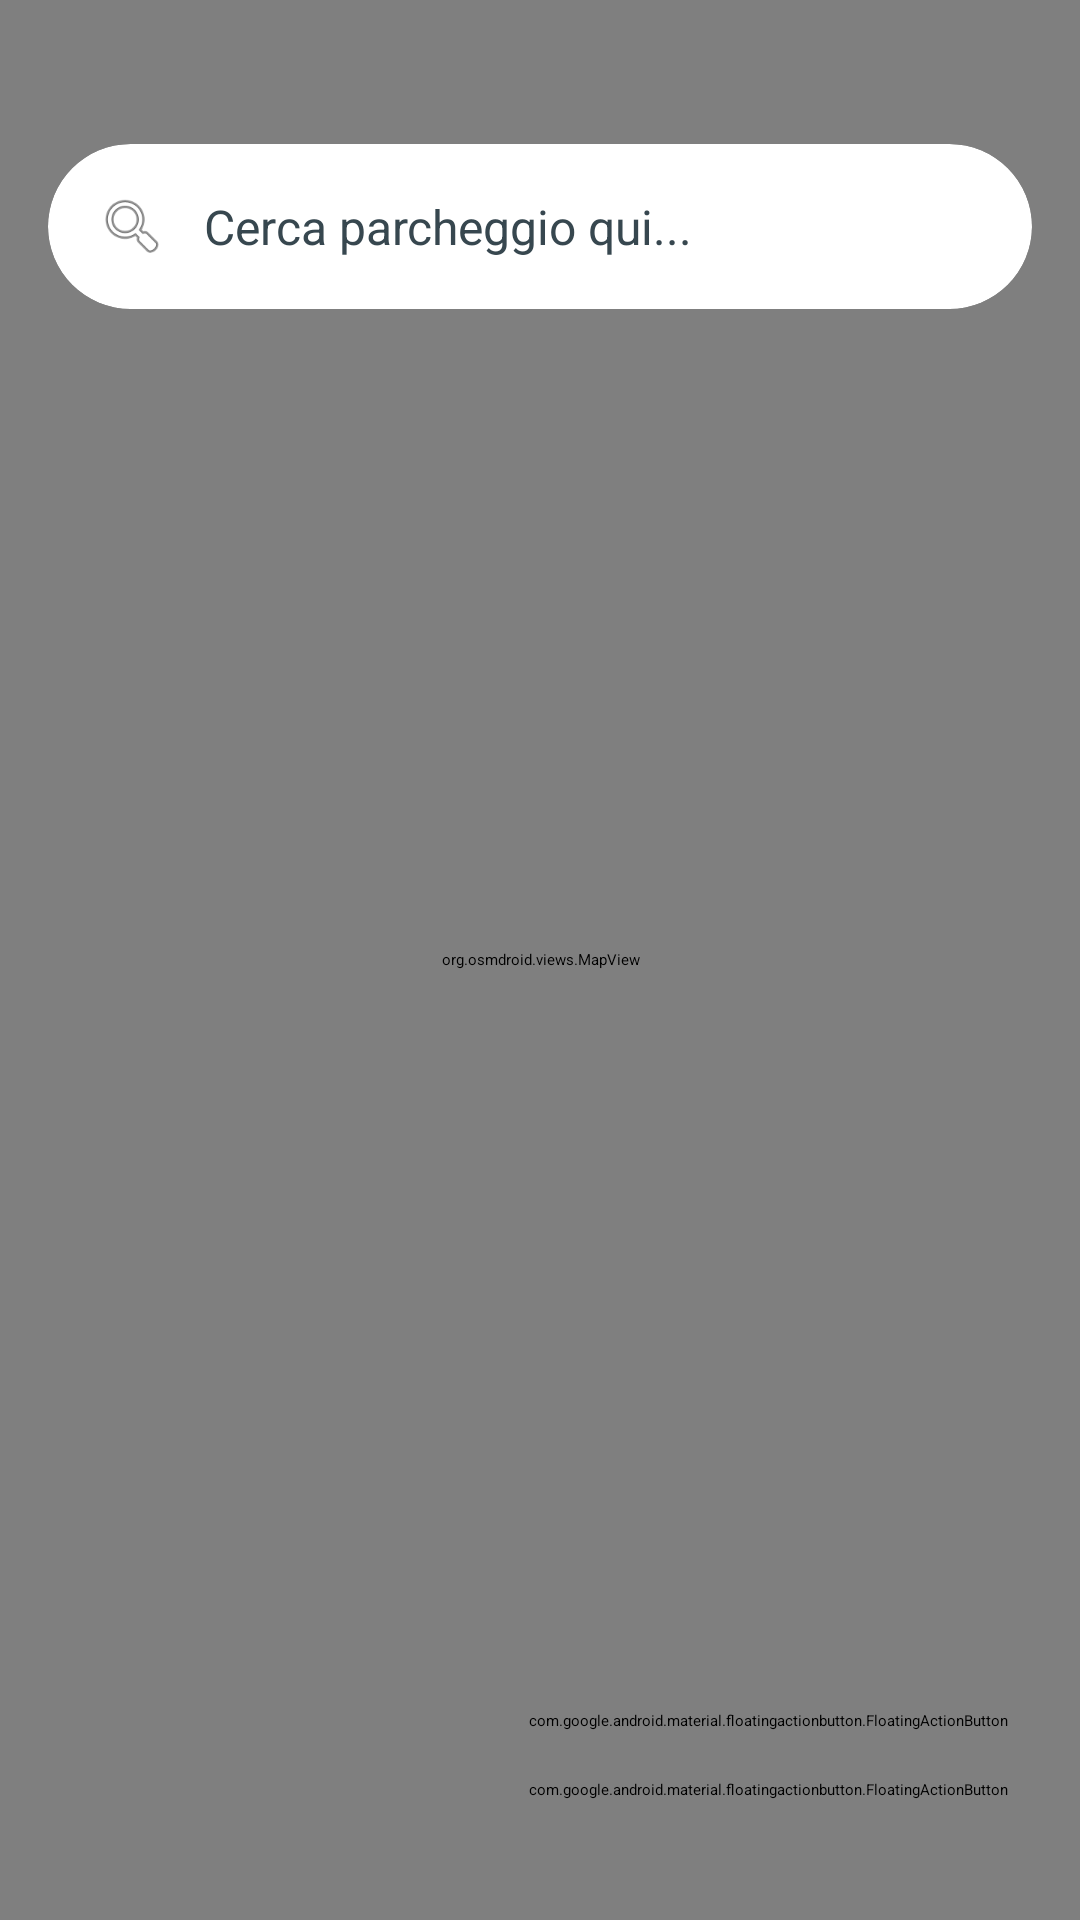

Icon click points for this 1080 × 1920 phone screenshot, format point (x, y):
search: point (132, 226)
